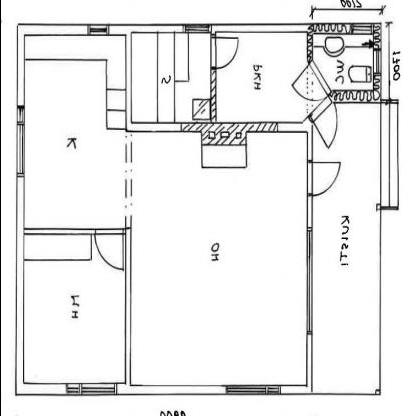door: (287, 51, 335, 105), (90, 223, 128, 275), (305, 93, 337, 152), (303, 156, 343, 203)
window: (222, 372, 284, 408), (60, 370, 122, 405), (8, 100, 32, 189), (300, 222, 316, 346), (83, 15, 111, 49), (180, 16, 212, 42), (370, 42, 383, 86)
